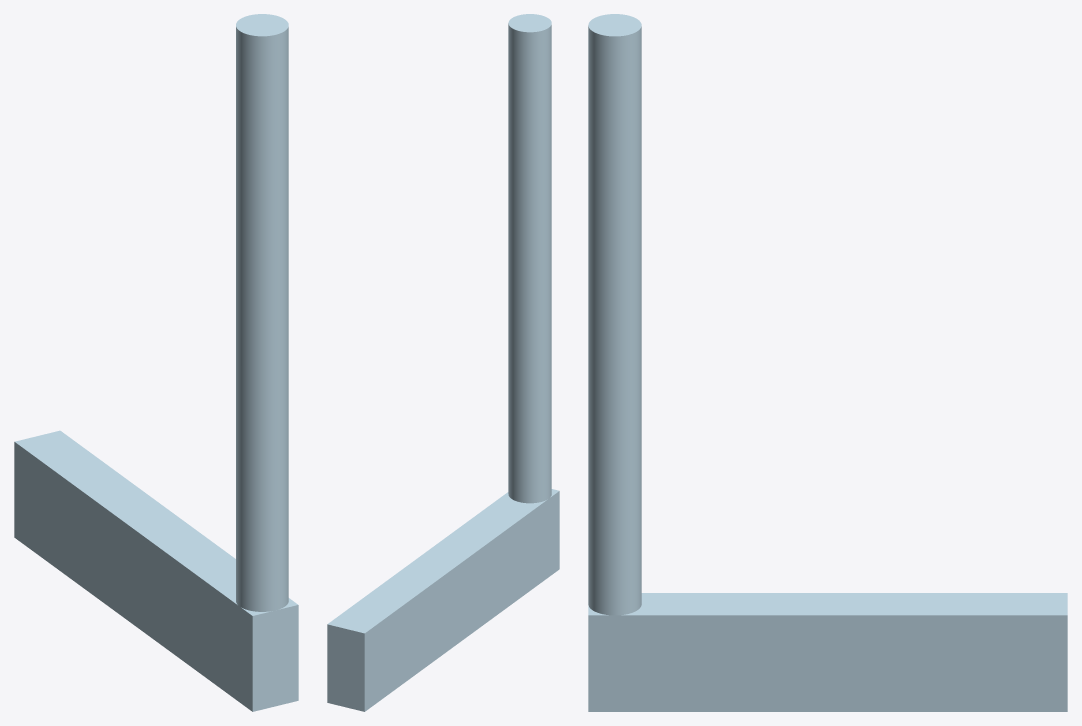
The model's file is Part Studio 1 - Part 1.gltf.
3 renders of one model, left to right at view 1: azimuth 30°, elevation 25°; view 2: azimuth 150°, elevation 25°; view 3: azimuth 270°, elevation 25°, orthographic. The views are drawn at different scales.
Parts seen in each view (by area): view 1: Part 1; view 2: Part 1; view 3: Part 1.
Part boxes in pixels (x1=…): Part 1: x1=14, y1=14, x2=298, y2=711; Part 1: x1=327, y1=14, x2=559, y2=711; Part 1: x1=588, y1=14, x2=1067, y2=711.
Size of the model in its own units: 0.0127 by 0.1778 by 0.1143.
